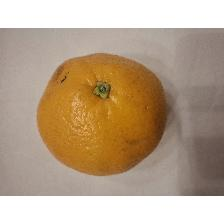Orange: (36, 51, 170, 176)
